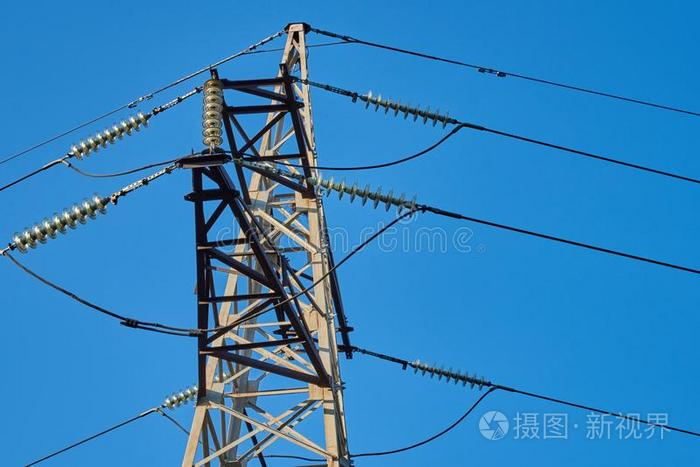insulator: (11, 192, 105, 251), (311, 171, 418, 213), (364, 87, 453, 129), (69, 110, 147, 157), (411, 358, 485, 391), (164, 372, 225, 410), (198, 78, 223, 145)
